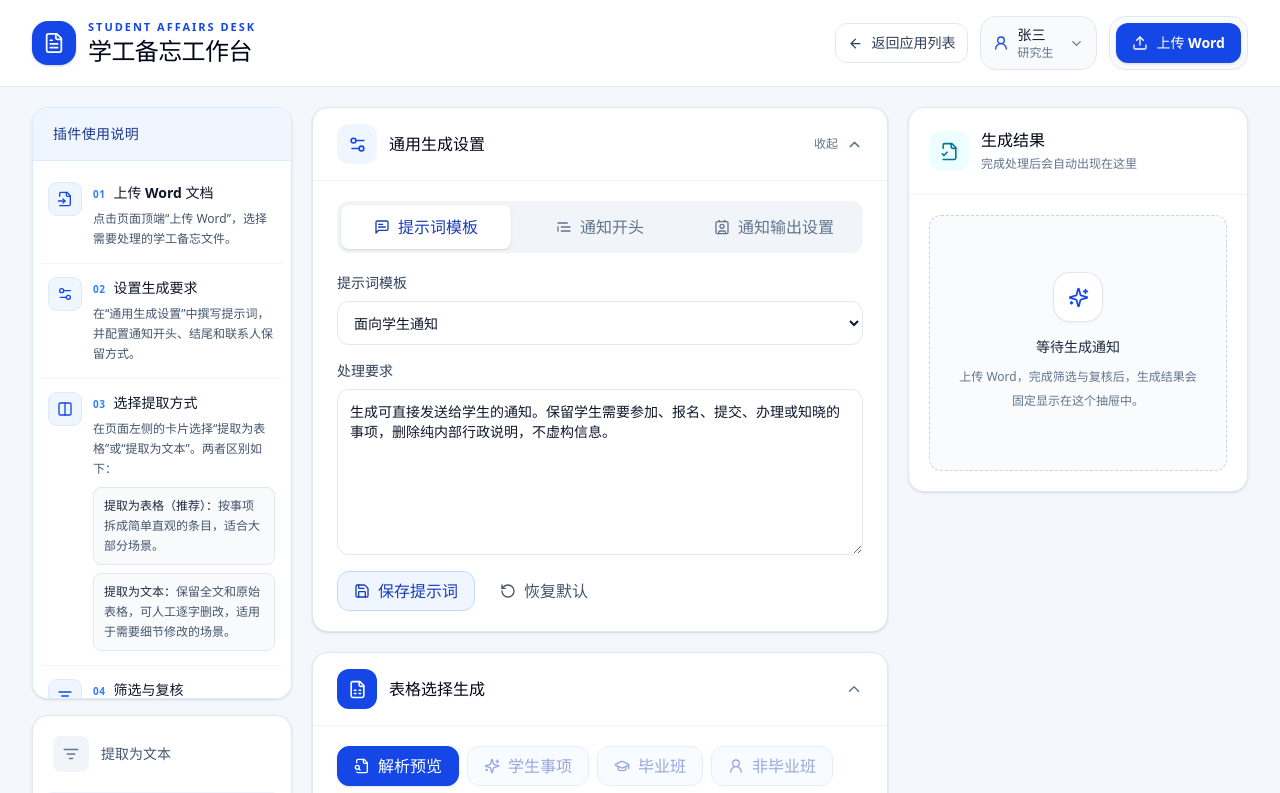
App workspace › uses single-line accordion headers without secondary helper text
expect the button "通用生成设置 收起" is shown: met, box x1=313 y1=108 x2=887 y2=180
expect the button "表格选择生成" is shown: met, box x1=313 y1=653 x2=887 y2=725
What coordinates should you click on to do the following:
click the button "提取为文本"
I would click on:
 (162, 754)
Its box is x1=41 y1=724 x2=283 y2=784.
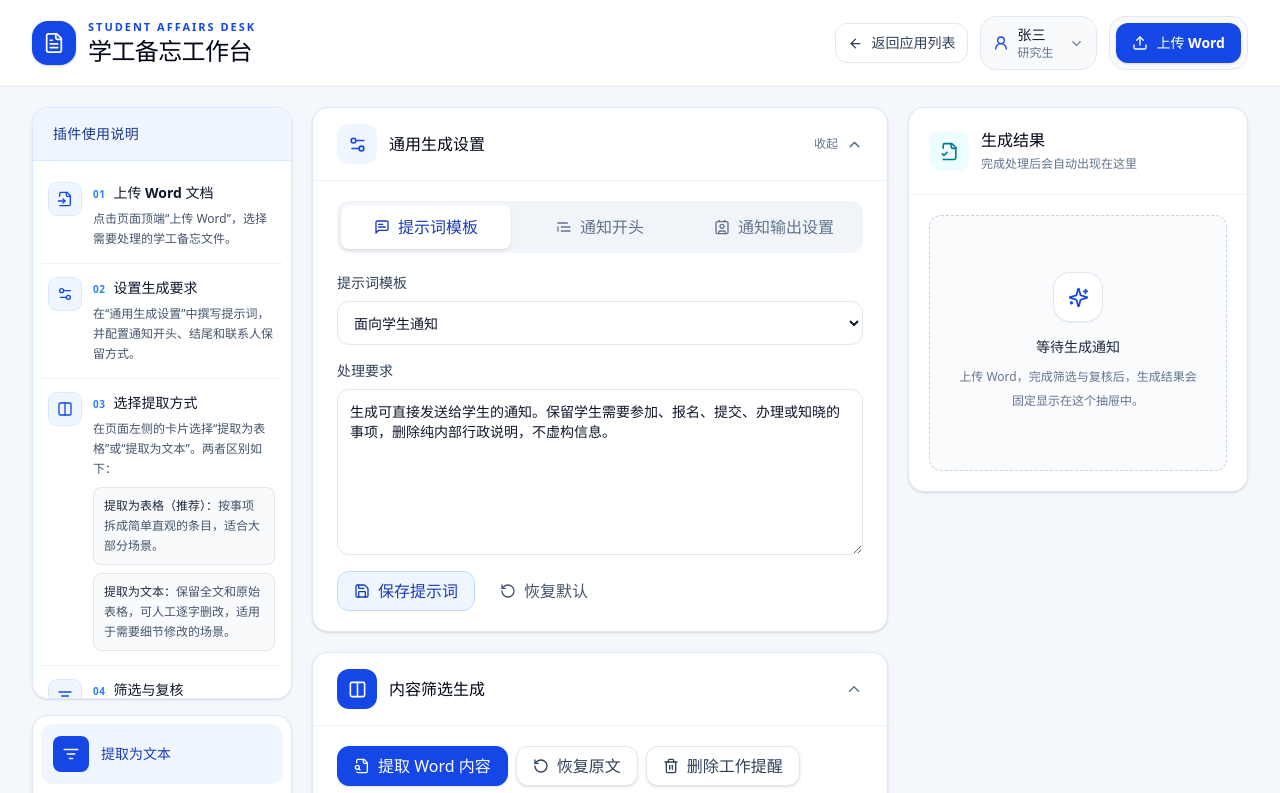
expect the button "内容筛选生成" is shown: met, box x1=313 y1=653 x2=887 y2=725
